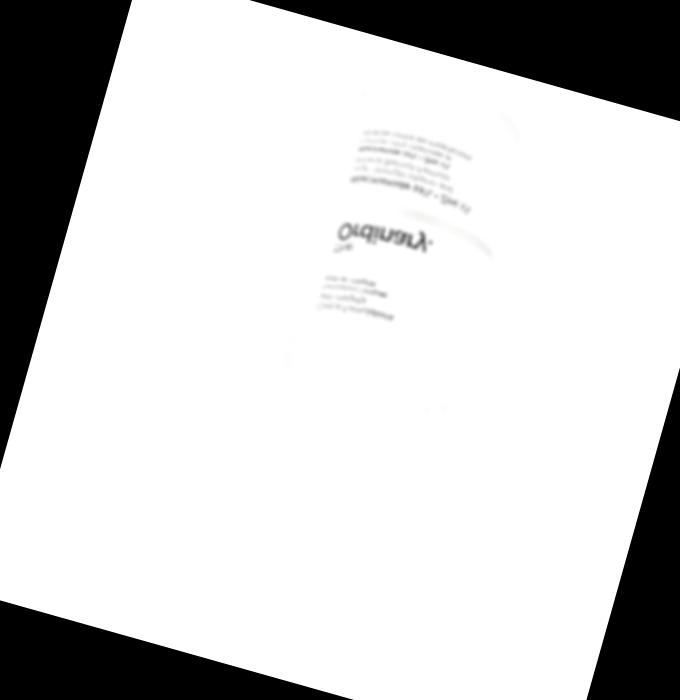cosmetic: (210, 69, 535, 654)
